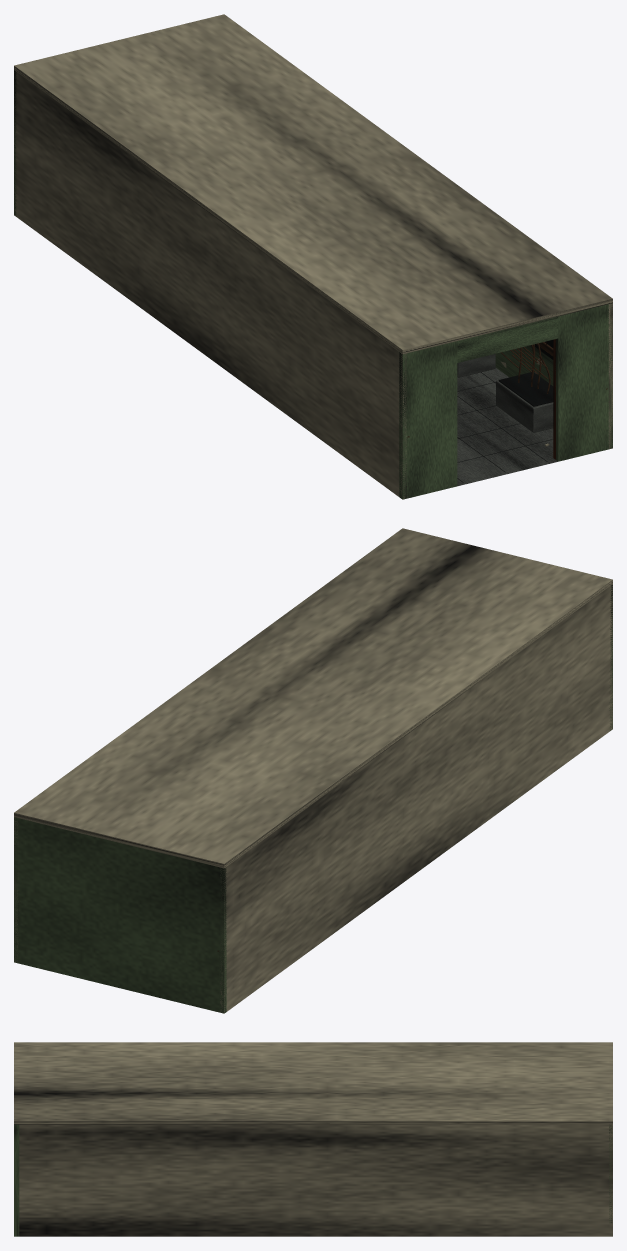
File: conservatory.glb
The picture shows the model from 3 angles, top to bottom: view 1: azimuth 30°, elevation 25°; view 2: azimuth 150°, elevation 25°; view 3: azimuth 270°, elevation 25°; orthographic projection. The views are drawn at different scales.
Visible parts, largest first — view 1: static-plaster, static-paint, static-stone, static-dark, static-wood; view 2: static-plaster, static-paint; view 3: static-plaster, static-paint.
Boxes of the visible parts, x1,y1,x2,y2 form: static-plaster: (14, 14, 612, 499); static-paint: (14, 70, 612, 499); static-stone: (457, 354, 557, 486); static-dark: (457, 340, 553, 482); static-wood: (501, 342, 553, 393); static-plaster: (14, 528, 612, 1013); static-paint: (14, 584, 612, 1013); static-plaster: (14, 1042, 612, 1236); static-paint: (14, 1124, 612, 1236).
Bounding box in the file's own units: 5 × 3.4 × 16.
Materials: 14 (10 with a texture image).
